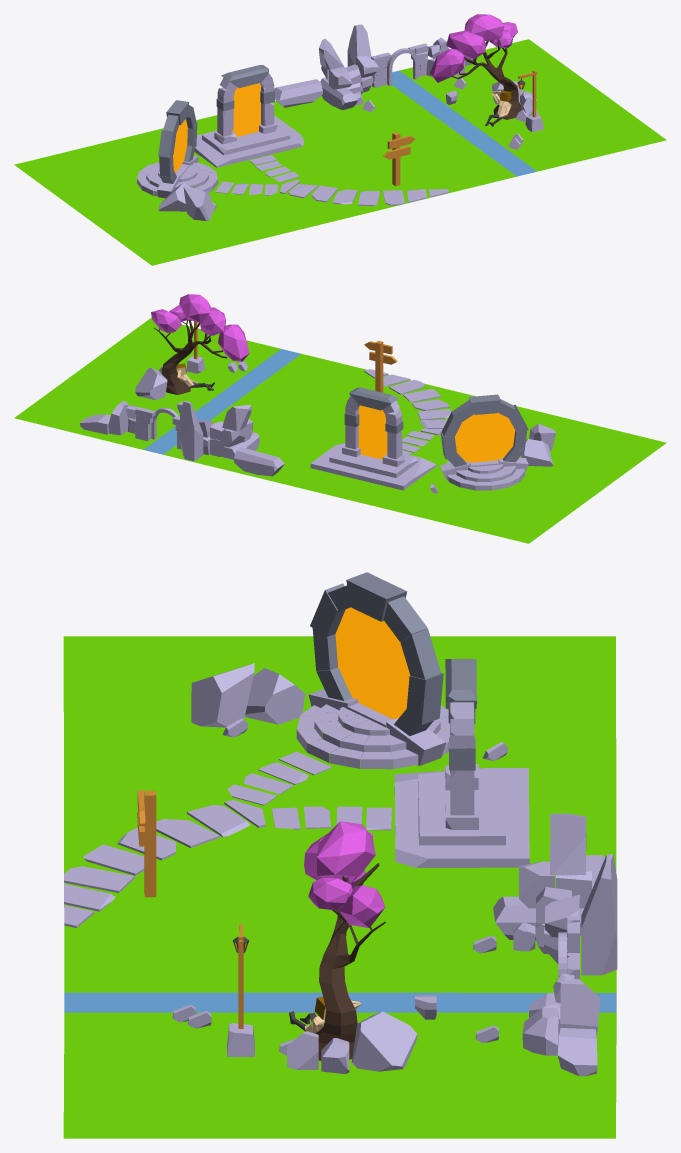
3 views of the same model, one above another, from view 1: azimuth 30°, elevation 25°; view 2: azimuth 150°, elevation 25°; view 3: azimuth 270°, elevation 25° (orthographic). The views are drawn at different scales.
Parts seen in each view (by area): view 1: baked, portalLightB, portalLightA; view 2: baked, portalLightA, portalLightB; view 3: baked, portalLightA.
Boxes of the visible parts, x1,y1,x2,y2 form: baked: (14,14,666,265); portalLightB: (230,83,260,136); portalLightA: (173,119,187,172); baked: (14,294,666,543); portalLightA: (455,412,515,462); portalLightB: (358,405,387,459); baked: (63,572,617,1138); portalLightA: (335,607,410,719).
Size of the model in its own units: 8.03 by 1.52 by 3.74.
